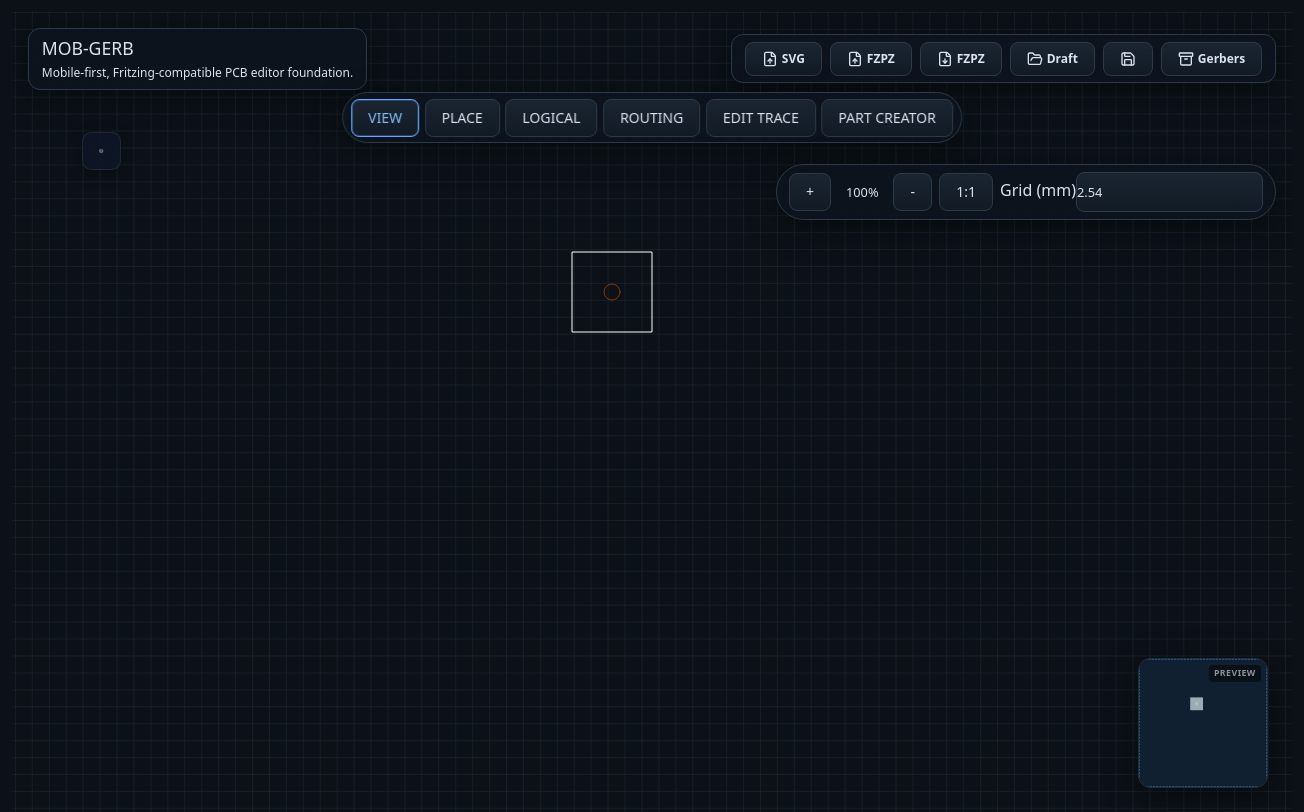
Test case: App integration › supports starting and cancelling free draw mode
Click the button "PART CREATOR". click: (887, 118)
box: [822,99,953,137]
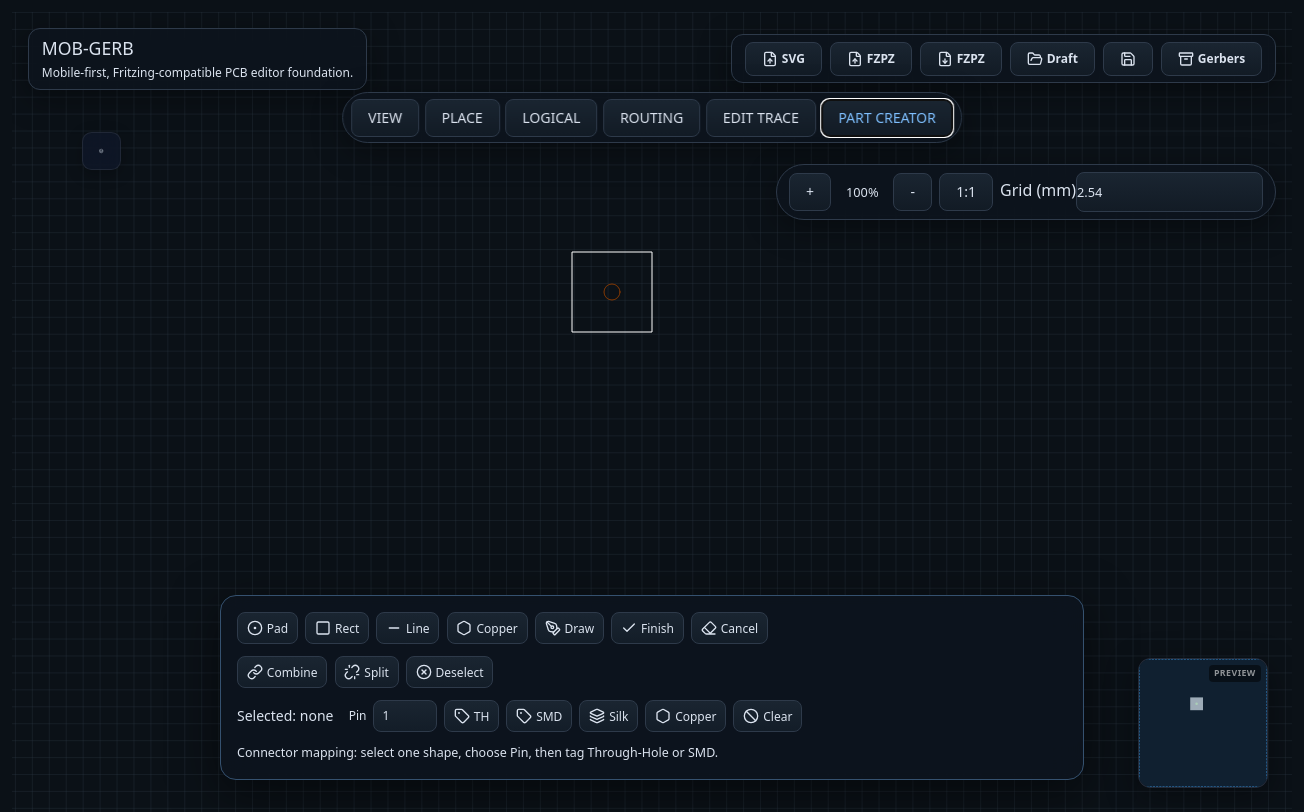
Click the button with aria-label "Start Free Draw". click: (569, 628)
box: [535,612,604,644]
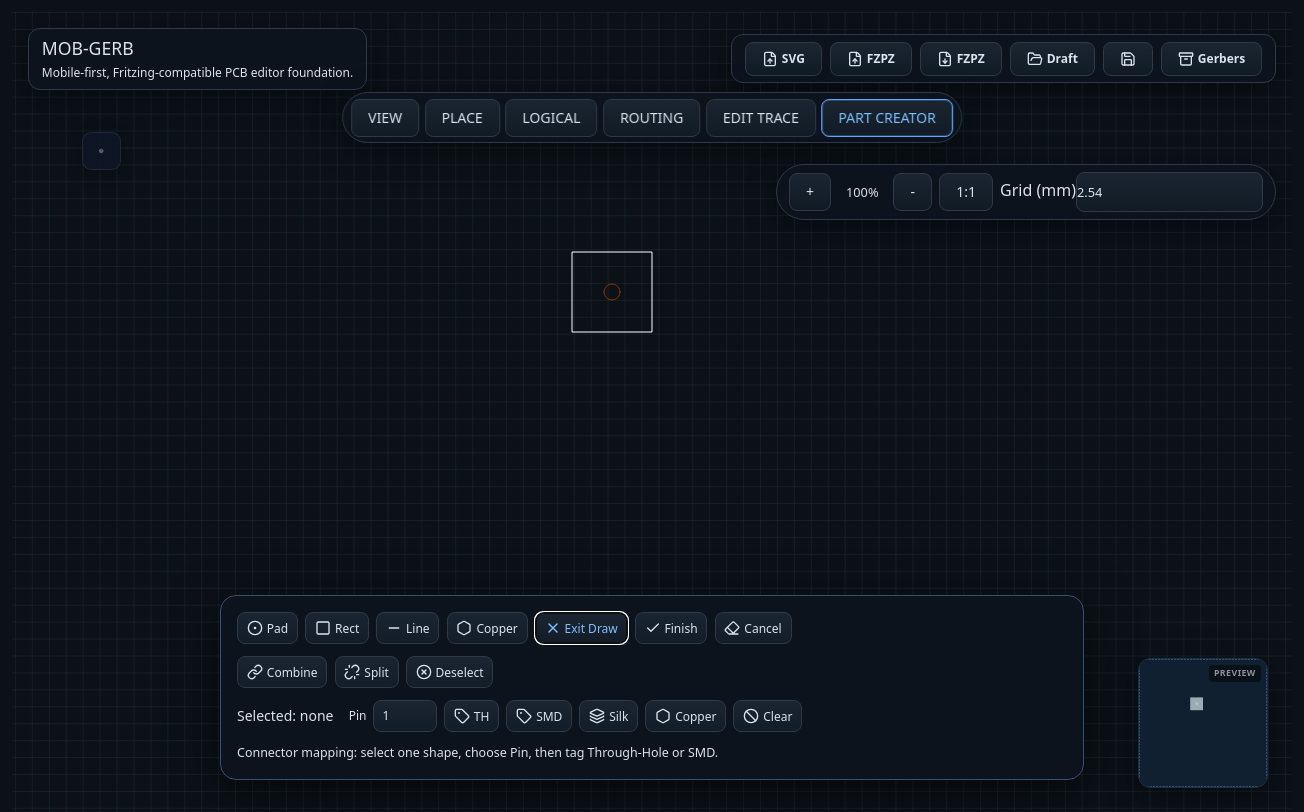
Check: the button with aria-label "Exit Draw Tool" is shown, box [535,612,628,644]
Click the button with aria-label "Cancel Draw". click: (753, 628)
box: [714,612,792,644]
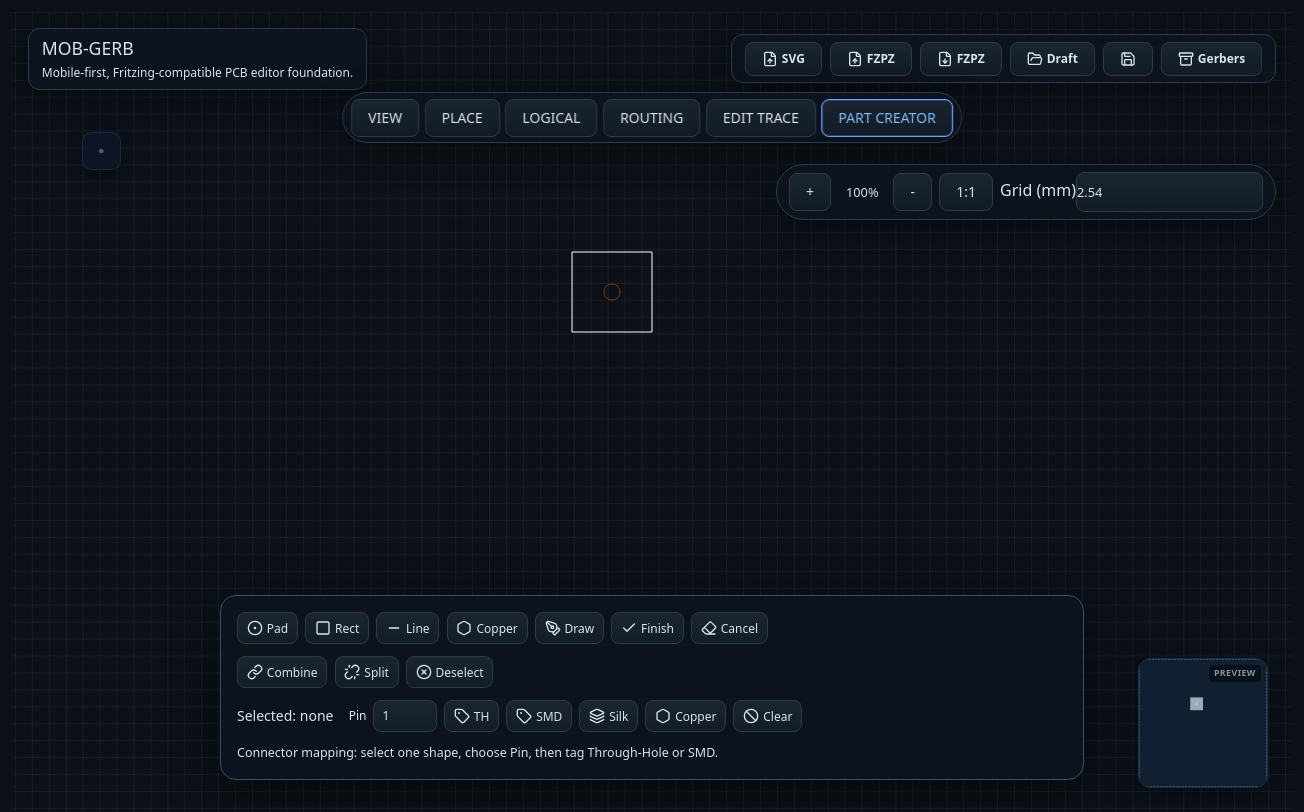
Check: the button with aria-label "Start Free Draw" is shown, box [535,612,604,644]
